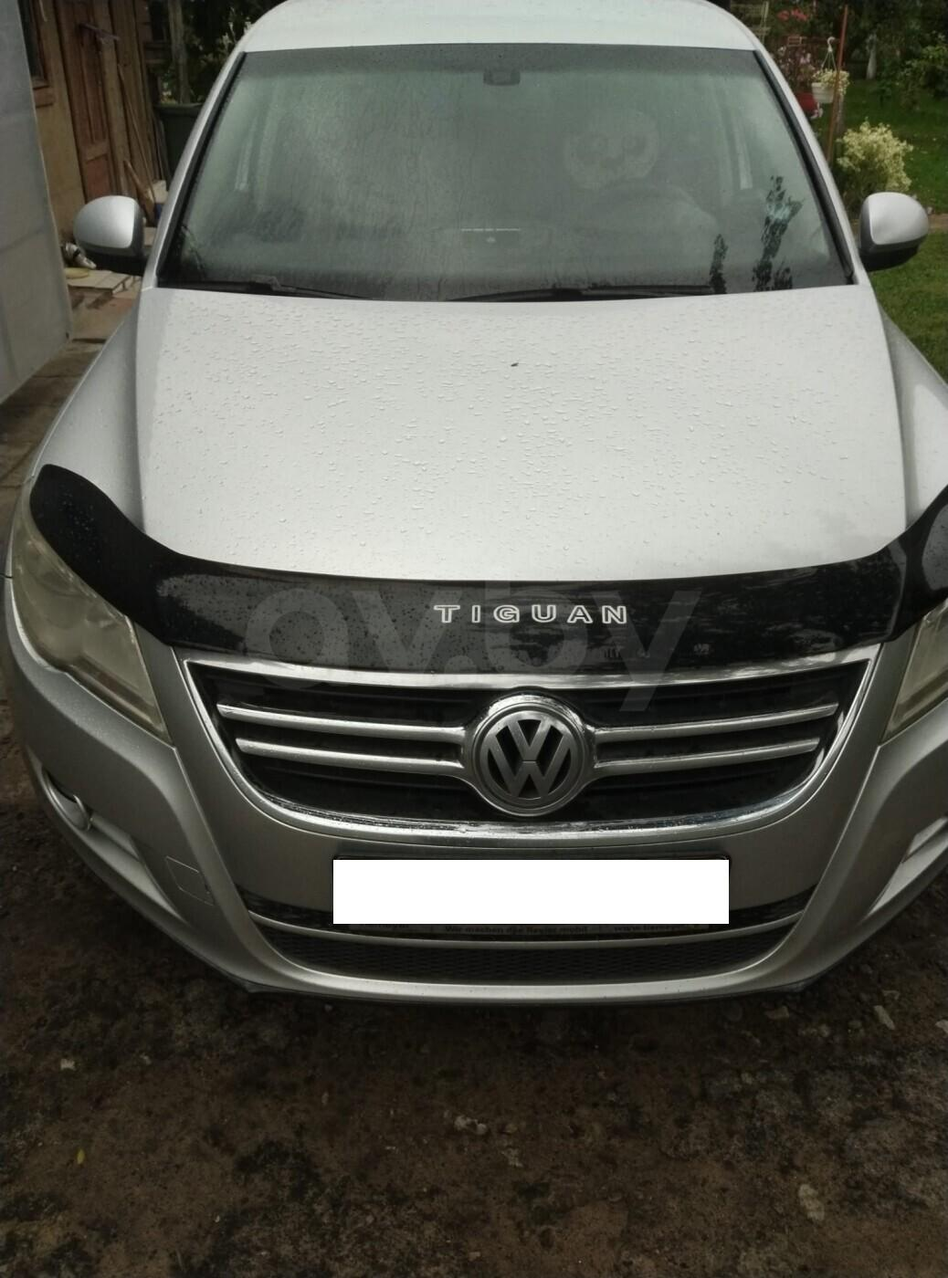Tiguan_2007-2011: (5, 0, 948, 1021)
